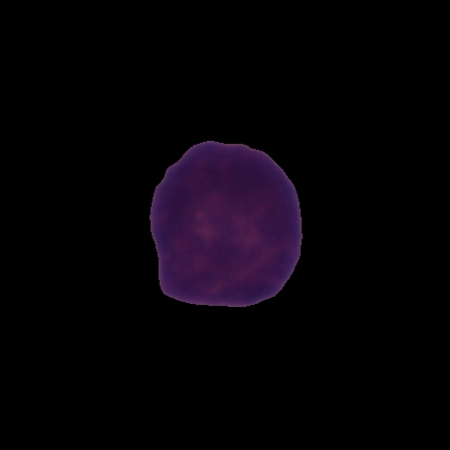HEM: (147, 138, 305, 308)
